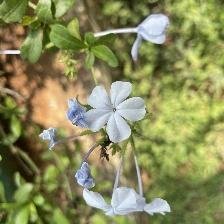chitrak: (83, 76, 155, 149), (84, 184, 171, 218)
